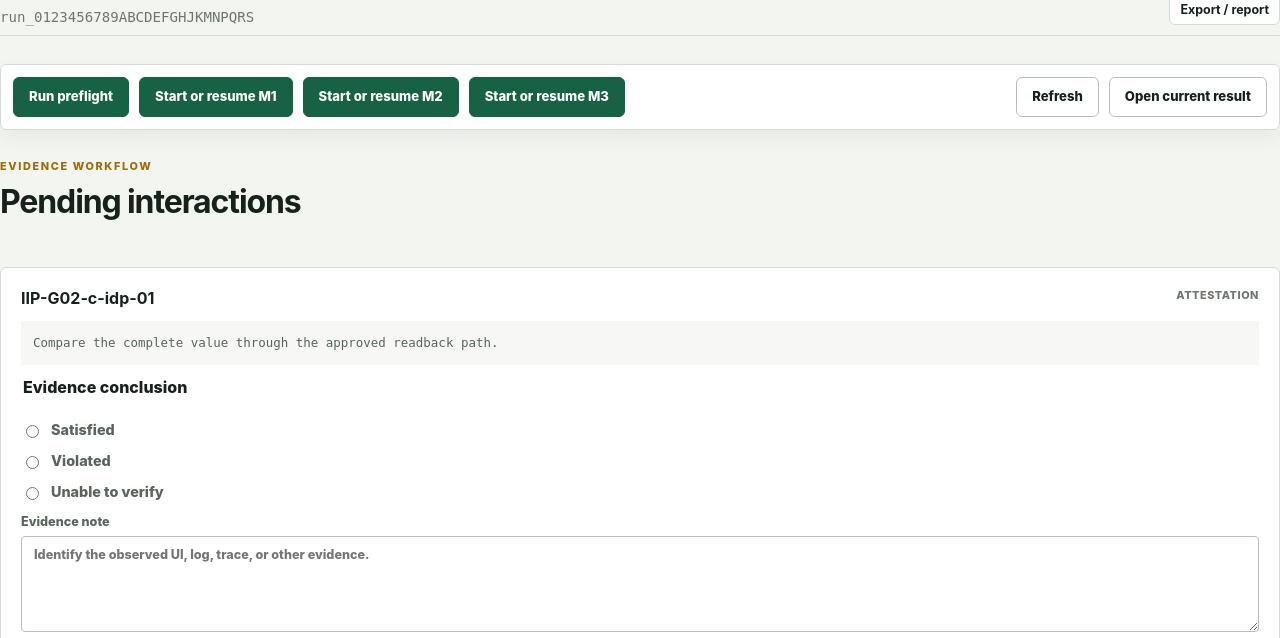
Test: shows approved instructions and submits only an option plus evidence note
Expected: the text "approved readback path" is shown, [33,335,498,350]
Click the radio button labelled "Satisfied" at (32, 431), box [26,424,39,438]
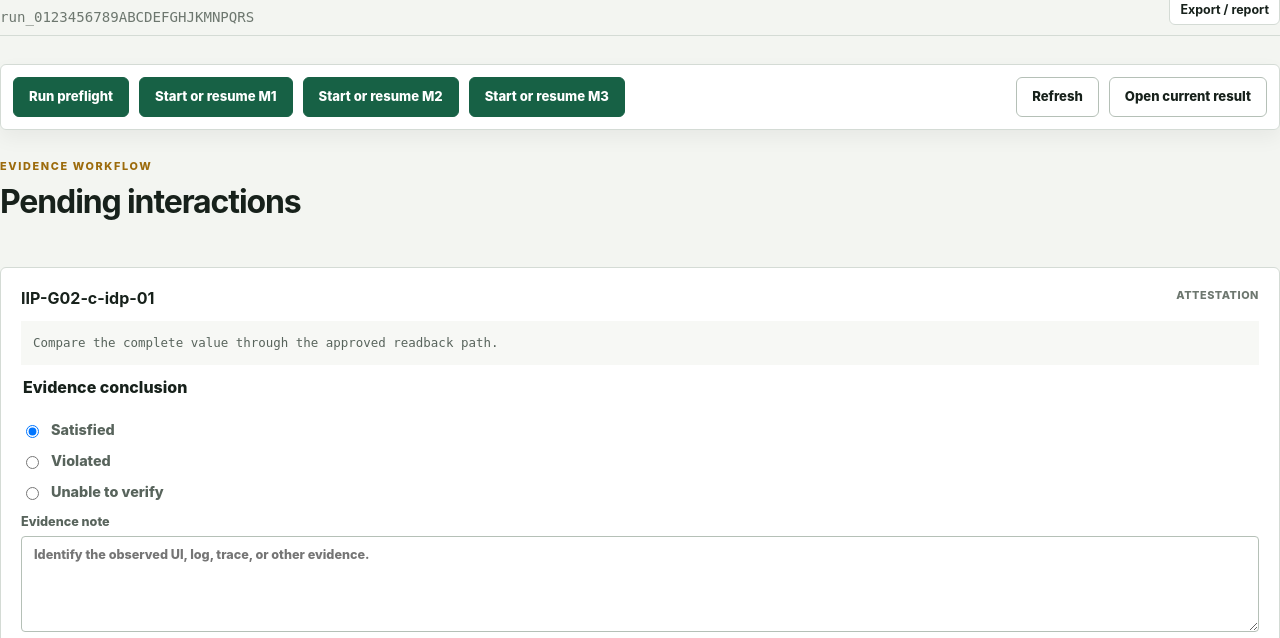
Type "Admin audit log entry 17" into the text box labelled "Evidence note" at (640, 584), box [21,536,1259,632]
(page scrolled)
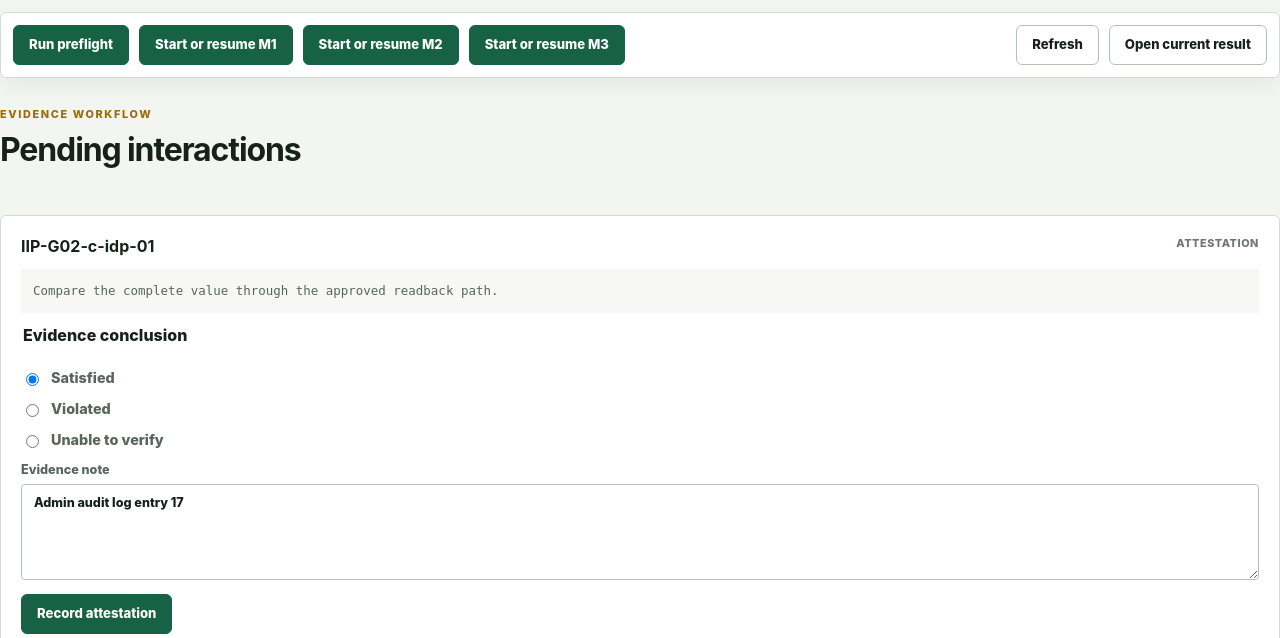
Click the button "Record attestation" at (97, 614), box [21,594,172,634]
(page scrolled)
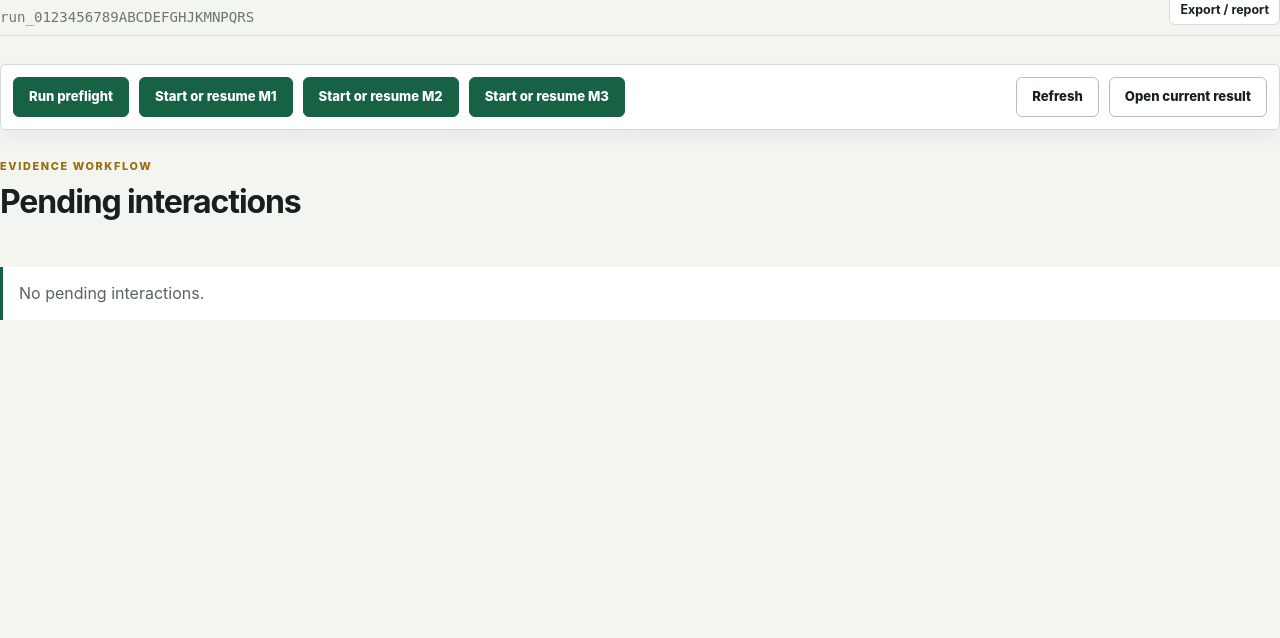
Now the text "No pending interactions." is shown, box [0,267,1279,320]
